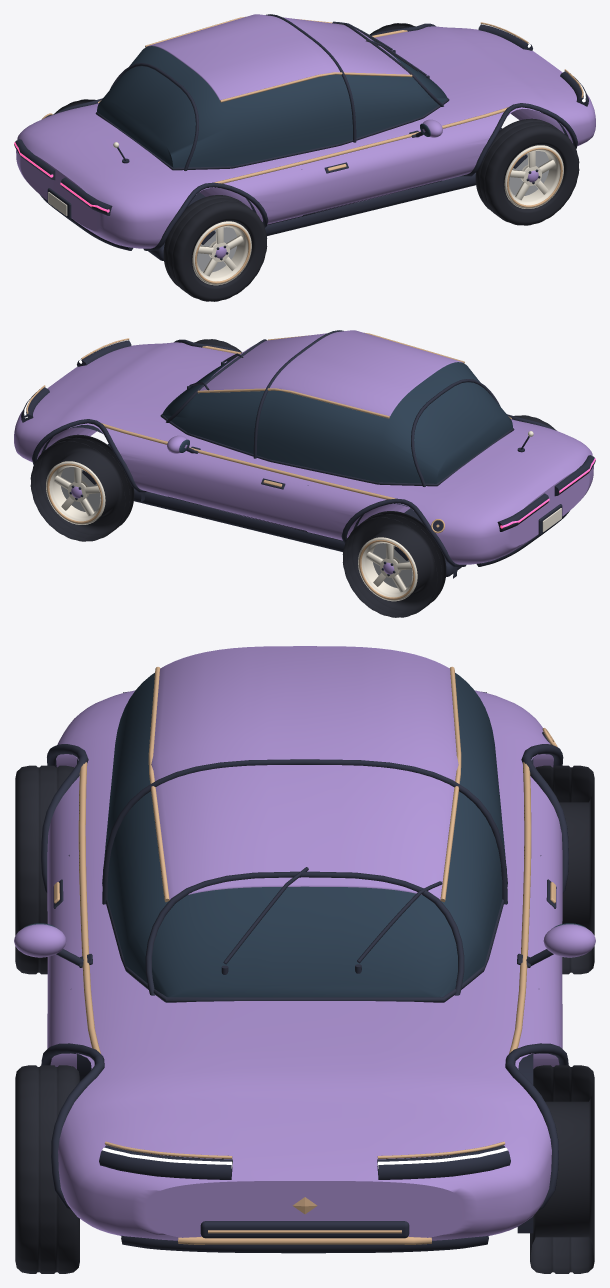
File: hatchback.glb
3 views of the same model, one above another, from view 1: azimuth 30°, elevation 25°; view 2: azimuth 150°, elevation 25°; view 3: azimuth 270°, elevation 25° (orthographic). The views are drawn at different scales.
Visible parts, largest first — view 1: PT_hatchback_body, PT_hatchback_wraparound_glass, PT_hatchback_curved_roof, PT_hatchback_tyre_FL, PT_hatchback_antenna_base, PT_hatchback_charge_port_pin, PT_hatchback_antenna_tip; view 2: PT_hatchback_body, PT_hatchback_wraparound_glass, PT_hatchback_curved_roof, PT_hatchback_tyre_FL, PT_hatchback_antenna_base, PT_hatchback_charge_port_pin, PT_hatchback_antenna_tip; view 3: PT_hatchback_body, PT_hatchback_curved_roof, PT_hatchback_wraparound_glass, PT_hatchback_tyre_FL, PT_hatchback_antenna_base, PT_hatchback_charge_port_pin, PT_hatchback_light_signature, PT_hatchback_wheel_well_liner_FL.
Boxes of the visible parts, left/top/right/bottom form: PT_hatchback_body: left=16, top=26, right=595, bottom=258; PT_hatchback_wraparound_glass: left=97, top=37, right=447, bottom=168; PT_hatchback_curved_roof: left=147, top=14, right=409, bottom=100; PT_hatchback_tyre_FL: left=53, top=23, right=579, bottom=301; PT_hatchback_antenna_base: left=14, top=14, right=588, bottom=260; PT_hatchback_charge_port_pin: left=41, top=16, right=583, bottom=283; PT_hatchback_antenna_tip: left=48, top=142, right=563, bottom=285; PT_hatchback_body: left=14, top=342, right=593, bottom=574; PT_hatchback_wraparound_glass: left=162, top=353, right=512, bottom=484; PT_hatchback_curved_roof: left=200, top=330, right=462, bottom=416; PT_hatchback_tyre_FL: left=30, top=339, right=556, bottom=617; PT_hatchback_antenna_base: left=21, top=330, right=595, bottom=576; PT_hatchback_charge_port_pin: left=26, top=332, right=511, bottom=599; PT_hatchback_antenna_tip: left=46, top=431, right=561, bottom=601; PT_hatchback_body: left=14, top=690, right=595, bottom=1240; PT_hatchback_curved_roof: left=151, top=646, right=458, bottom=899; PT_hatchback_wraparound_glass: left=104, top=673, right=505, bottom=1001; PT_hatchback_tyre_FL: left=15, top=765, right=594, bottom=1273; PT_hatchback_antenna_base: left=41, top=692, right=568, bottom=1253; PT_hatchback_charge_port_pin: left=54, top=666, right=557, bottom=1244; PT_hatchback_light_signature: left=102, top=1147, right=507, bottom=1168; PT_hatchback_wheel_well_liner_FL: left=77, top=758, right=533, bottom=1233.
Bounding box in the file's own units: 4.68 × 1.63 × 2.4.
13 materials, 13 textured.
